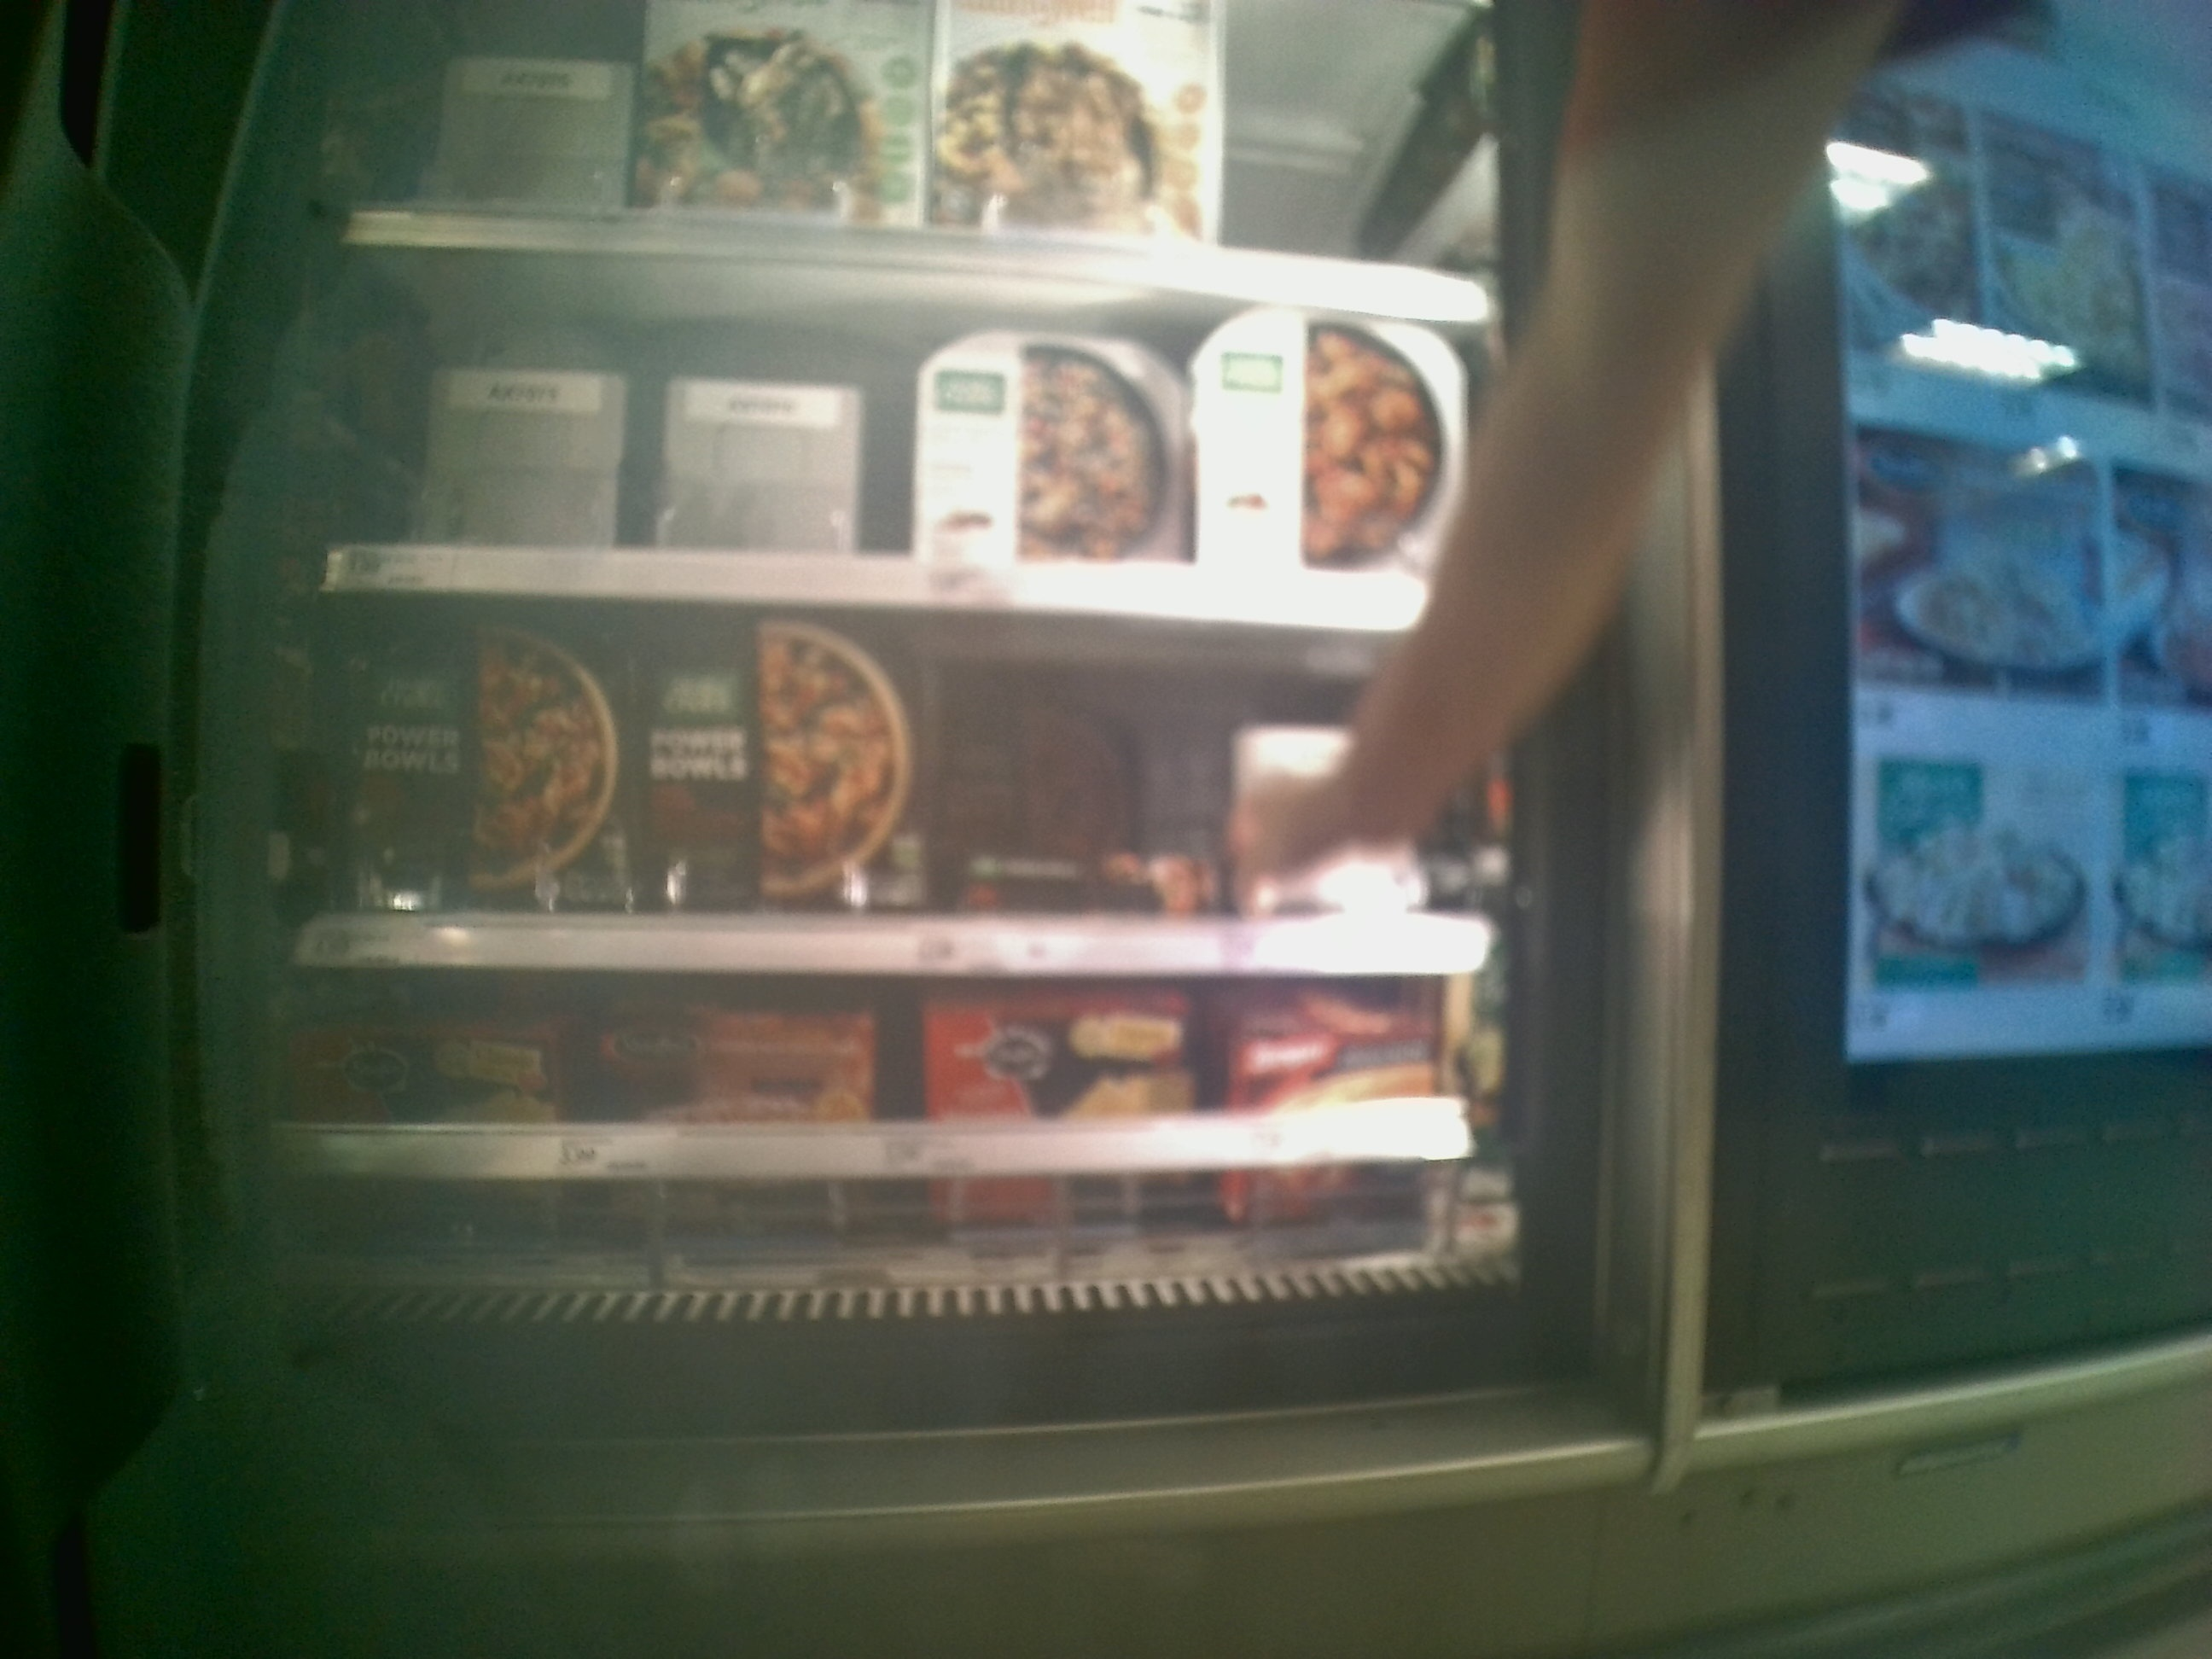shelf: (273, 964, 1548, 1351)
